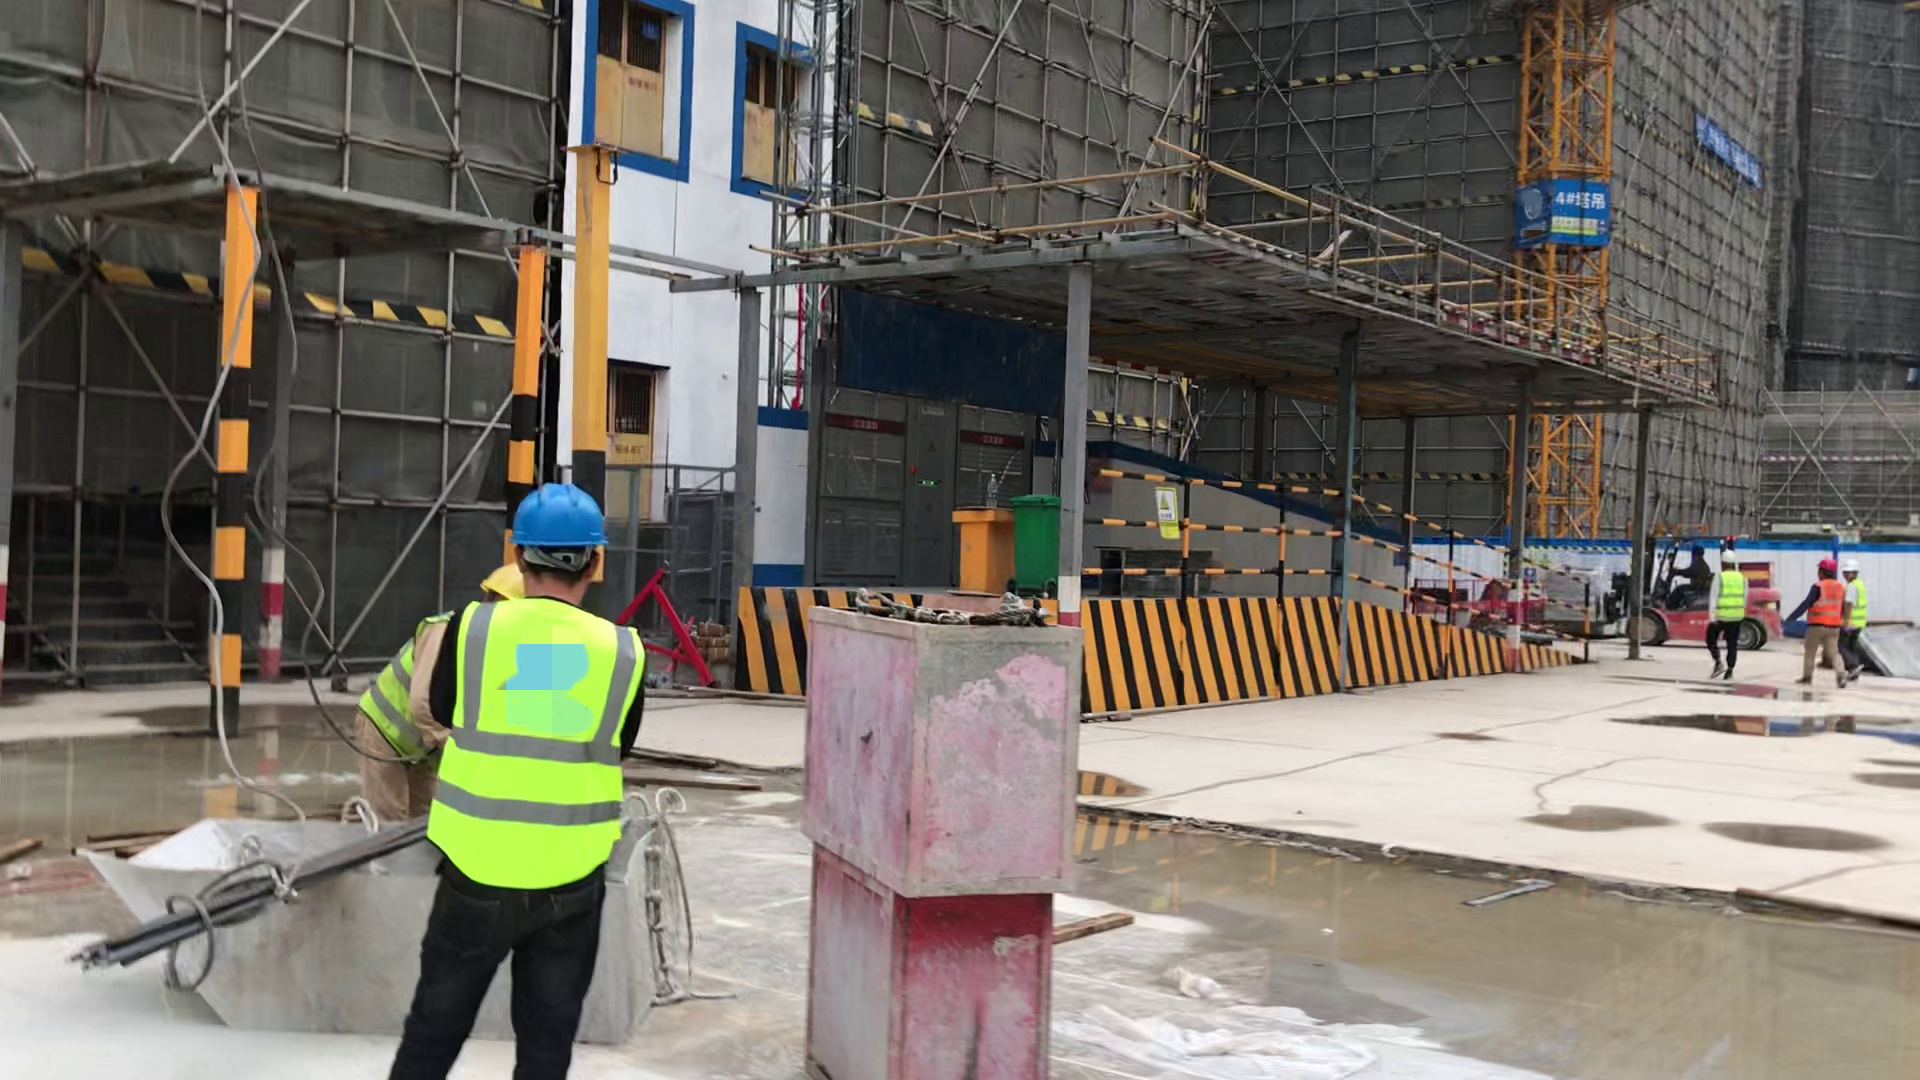helmet: (516, 481, 615, 561), (474, 550, 548, 611), (1813, 554, 1838, 575), (1840, 559, 1864, 580), (1714, 550, 1742, 565)
person: (385, 456, 636, 1080), (328, 519, 521, 872), (1692, 533, 1756, 710), (1790, 545, 1844, 695), (1832, 557, 1883, 684)
vest: (424, 589, 660, 907), (359, 591, 456, 784), (1802, 574, 1847, 630), (1712, 567, 1750, 625), (1843, 576, 1876, 634)
